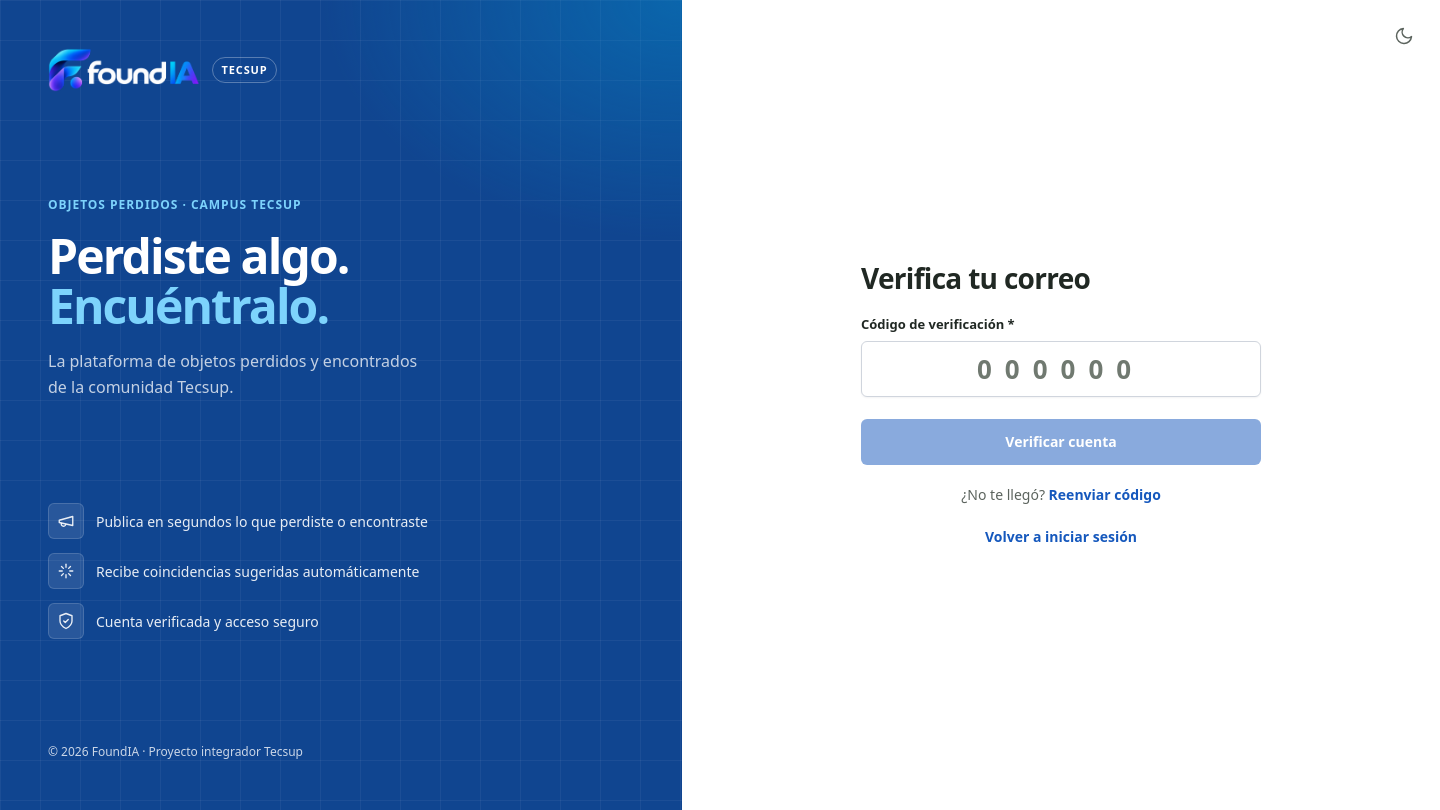
el reenvío directo muestra el fallo y permite recuperarlo sin esperar un envío inexistente
The image size is (1440, 810).
Click the button "Reenviar código".
click(1105, 495)  # box x1=1049 y1=485 x2=1161 y2=504
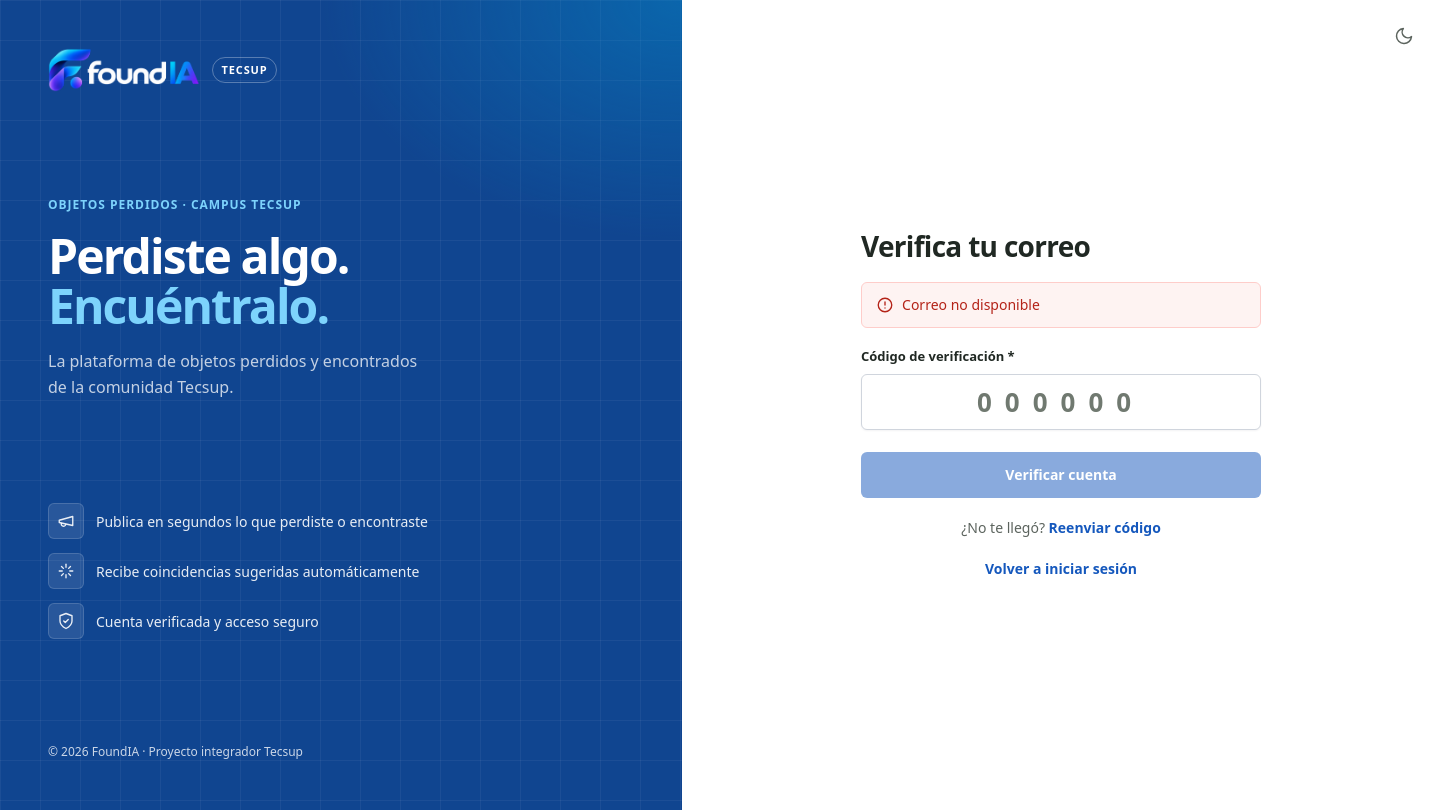
Check: the text "Código enviado correctamente" is not shown
Check: the message "Correo no disponible" is shown, box x1=861 y1=282 x2=1261 y2=328
Click the button "Reenviar código".
click(1105, 527)  # box x1=1049 y1=518 x2=1161 y2=537
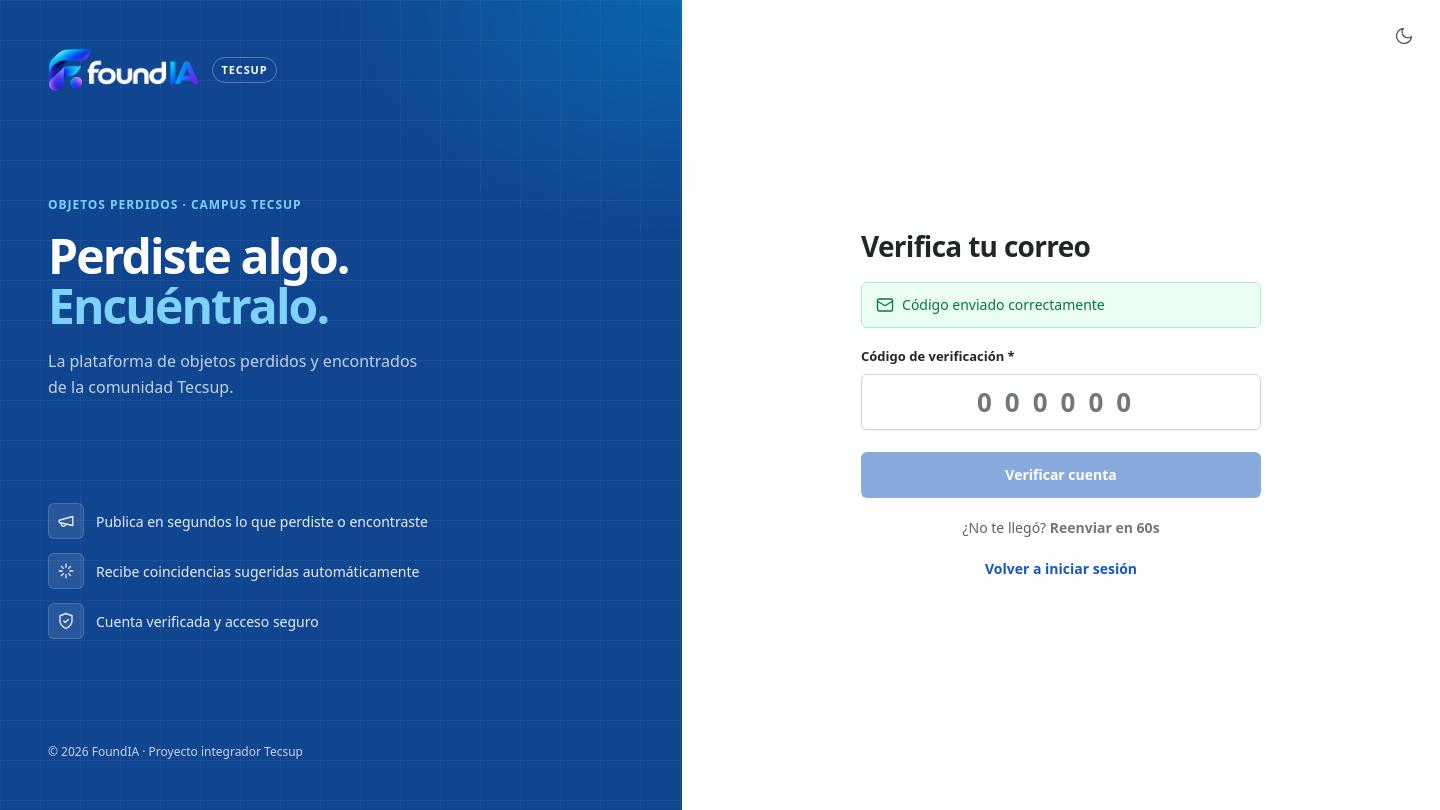
Check: the text "Código enviado correctamente" is shown, box x1=861 y1=282 x2=1261 y2=328
